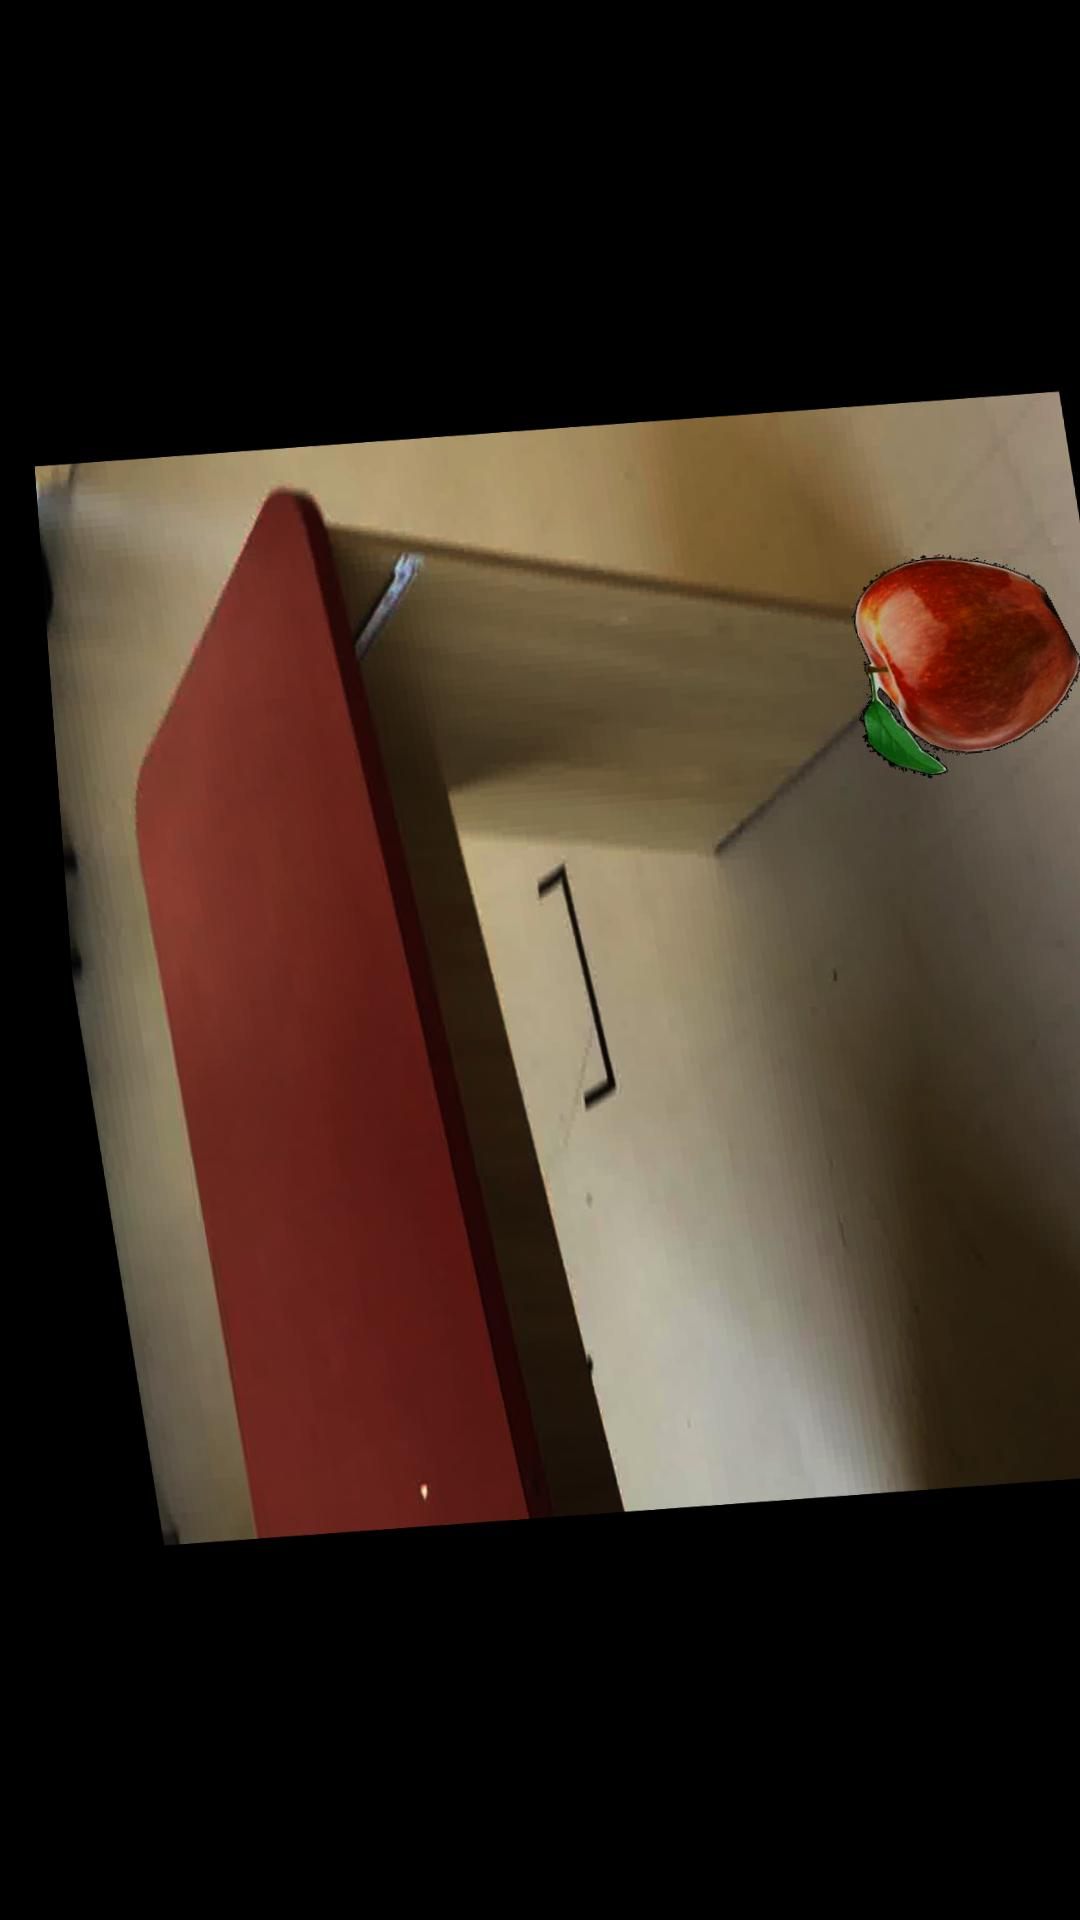apple: (843, 550, 1068, 773)
